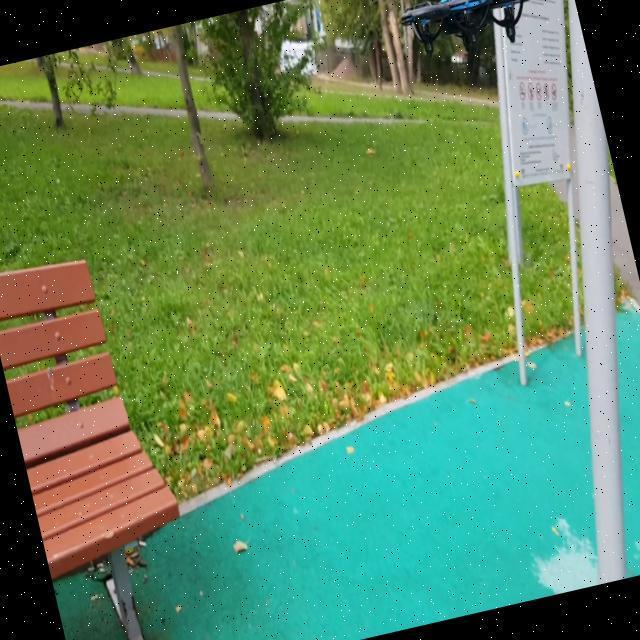Drons: (391, 0, 551, 74)
